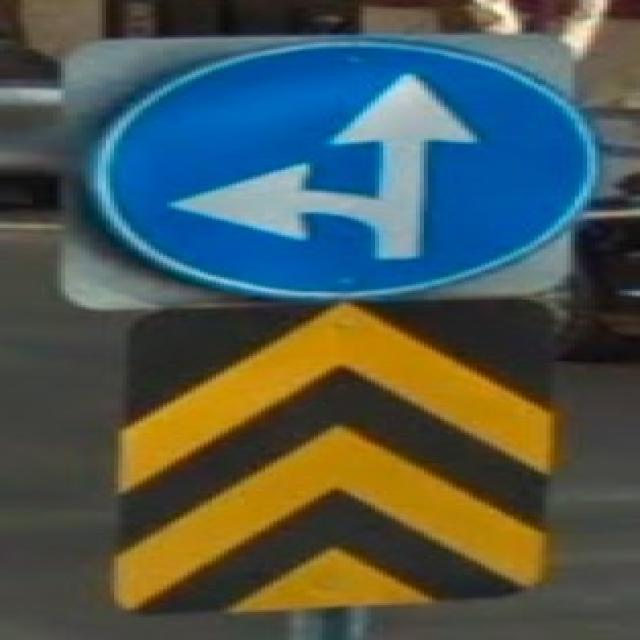Straight or Left: (89, 40, 598, 299)
